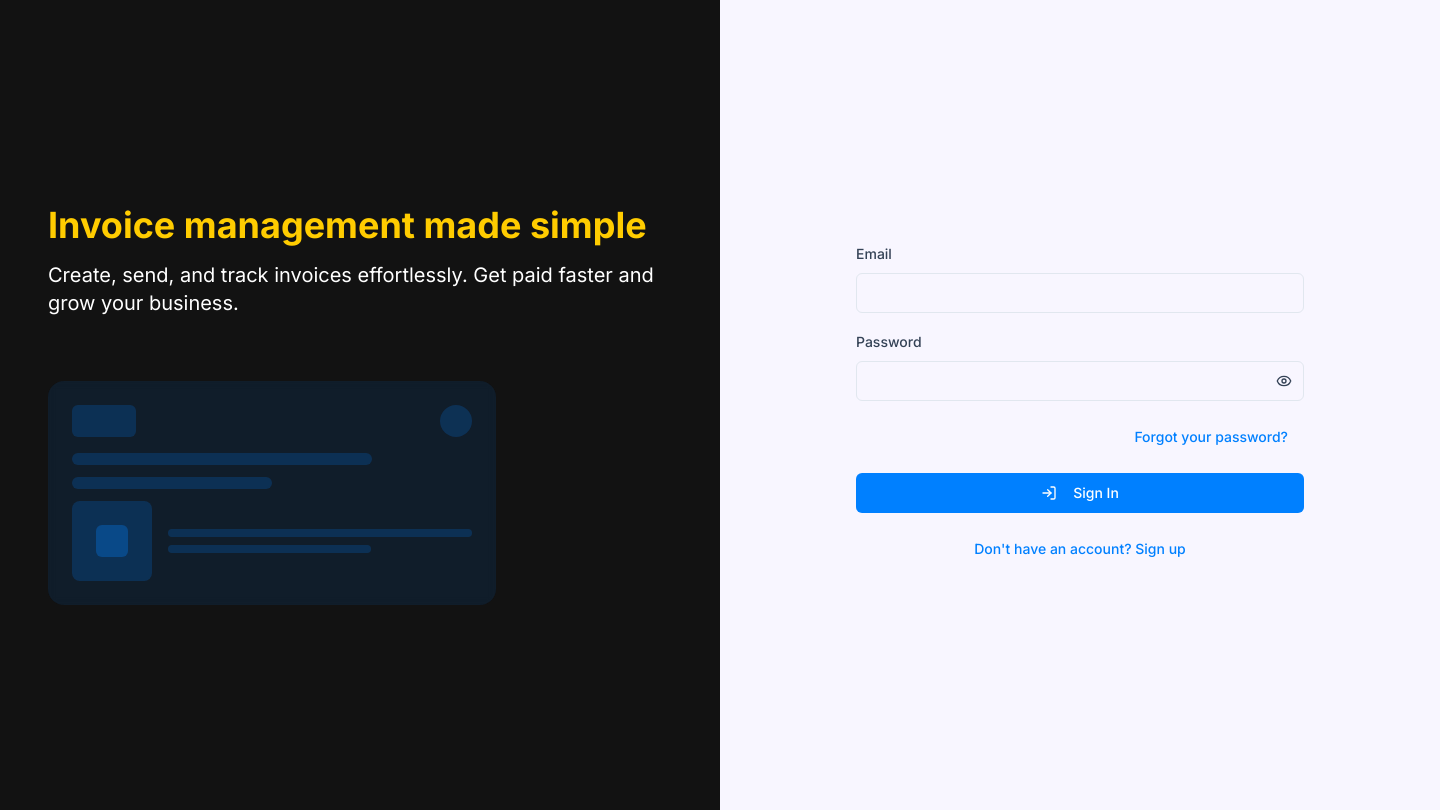
Test: Auth Page (real useAuth + mocked Supabase) › switch to signup form works
Click the button "Don't have an account? Sign up" at coordinates (1080, 549), box x1=958 y1=529 x2=1202 y2=569
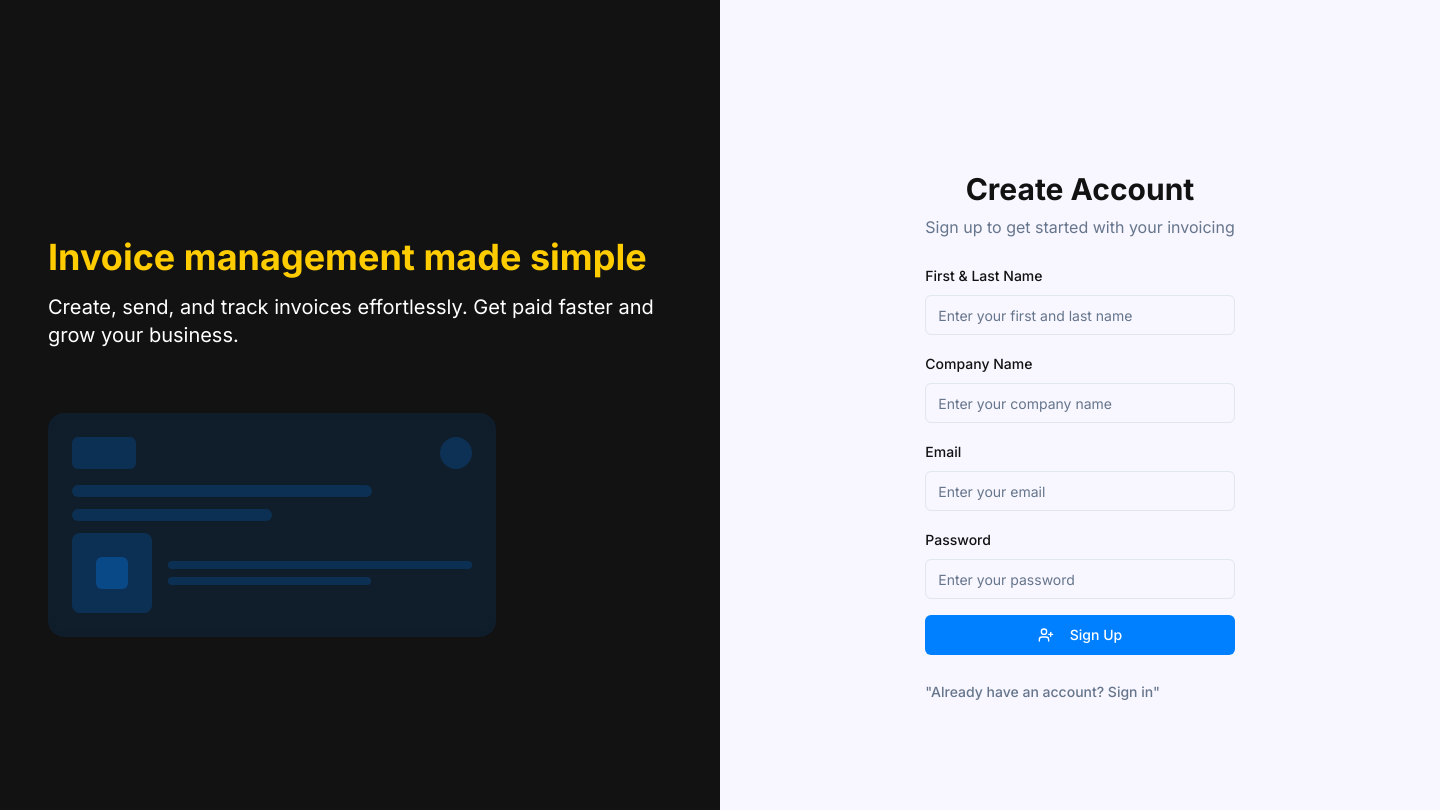
Check: the text "Sign up to get started with your invoicing" is shown, box x1=925 y1=215 x2=1235 y2=239
